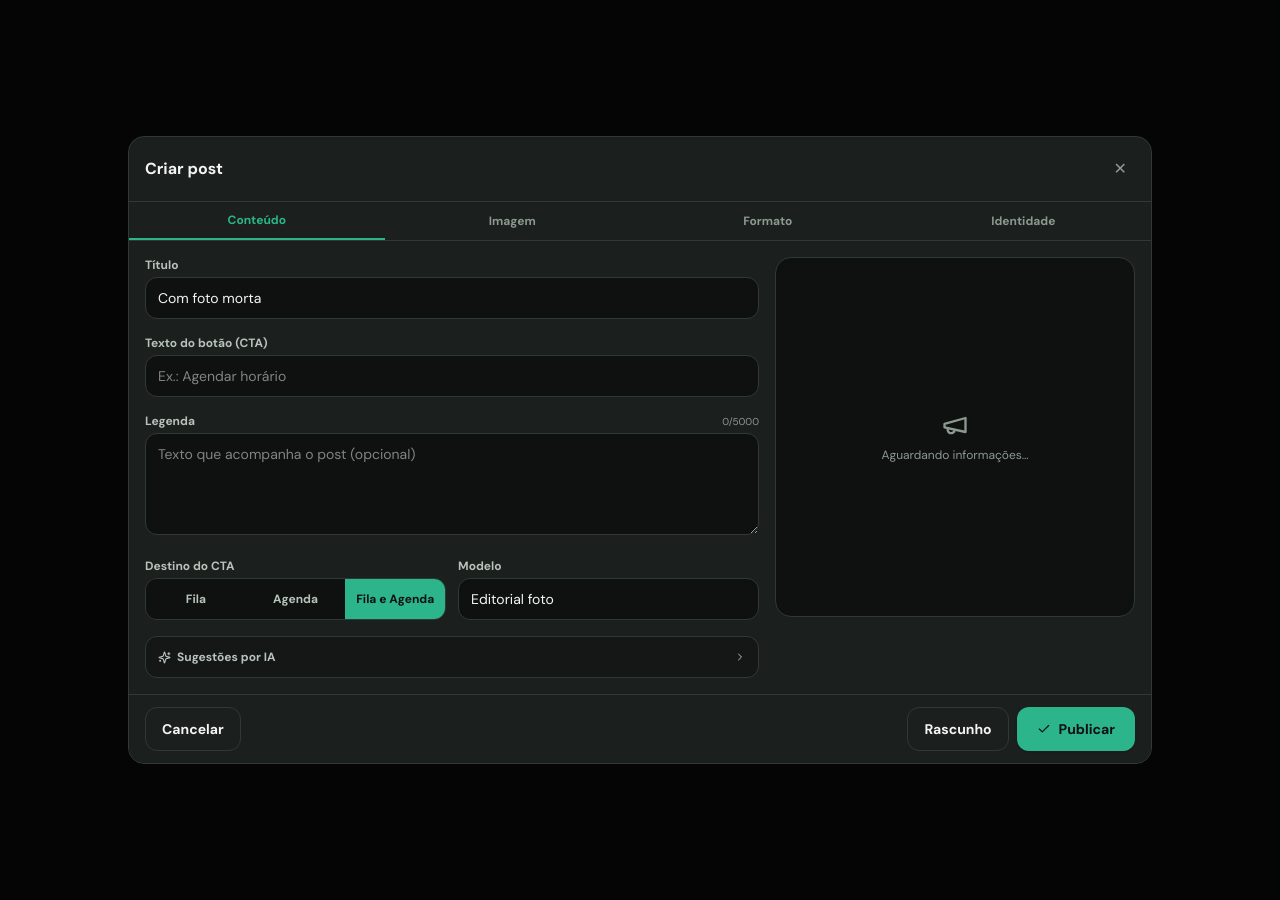
Test: PostEditor — biblioteca de fotos › limpa id órfão do rascunho e avisa quando a foto não está na biblioteca
This screenshot has width=1280, height=900.
Click the button "Imagem".
click(512, 221)  # box x1=384 y1=202 x2=640 y2=240
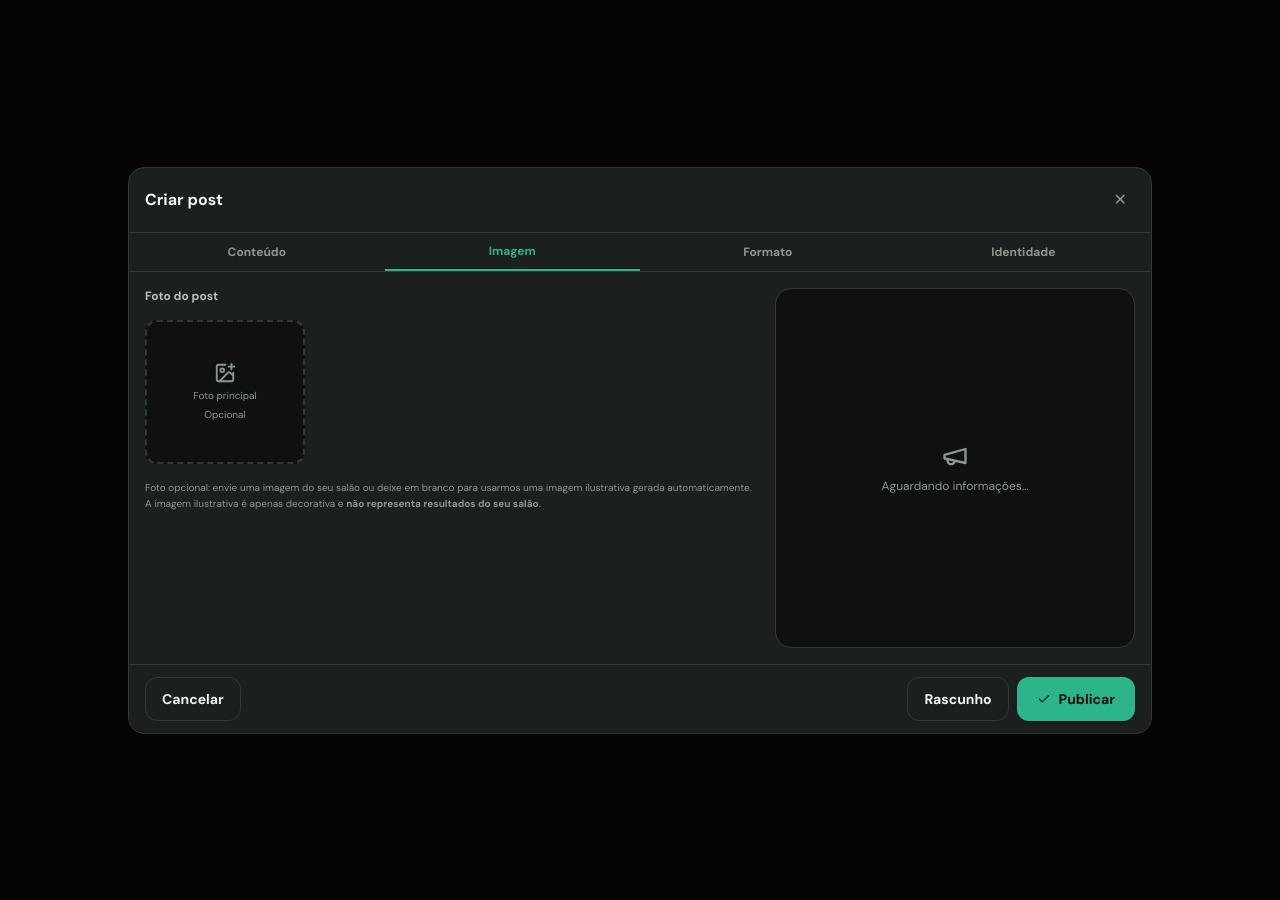
Expected: the button "Foto principal Opcional" is shown, x1=145 y1=320 x2=305 y2=464
